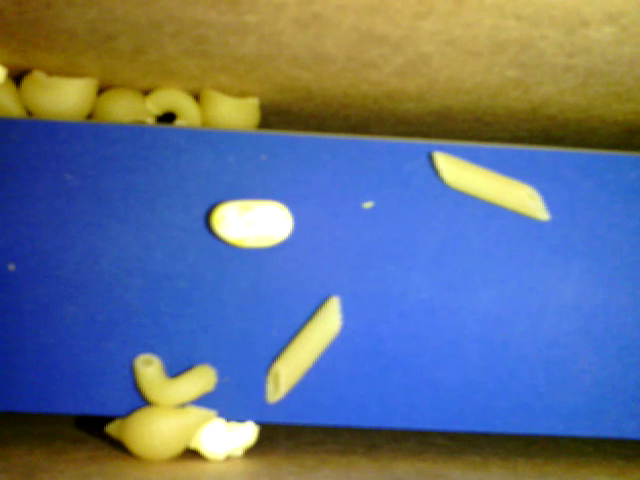elbow: (133, 352, 218, 408), (144, 87, 200, 126)
penne: (431, 149, 550, 224), (266, 294, 344, 403)
shell: (103, 402, 221, 462), (20, 69, 99, 122), (195, 84, 261, 127), (88, 83, 155, 125)
